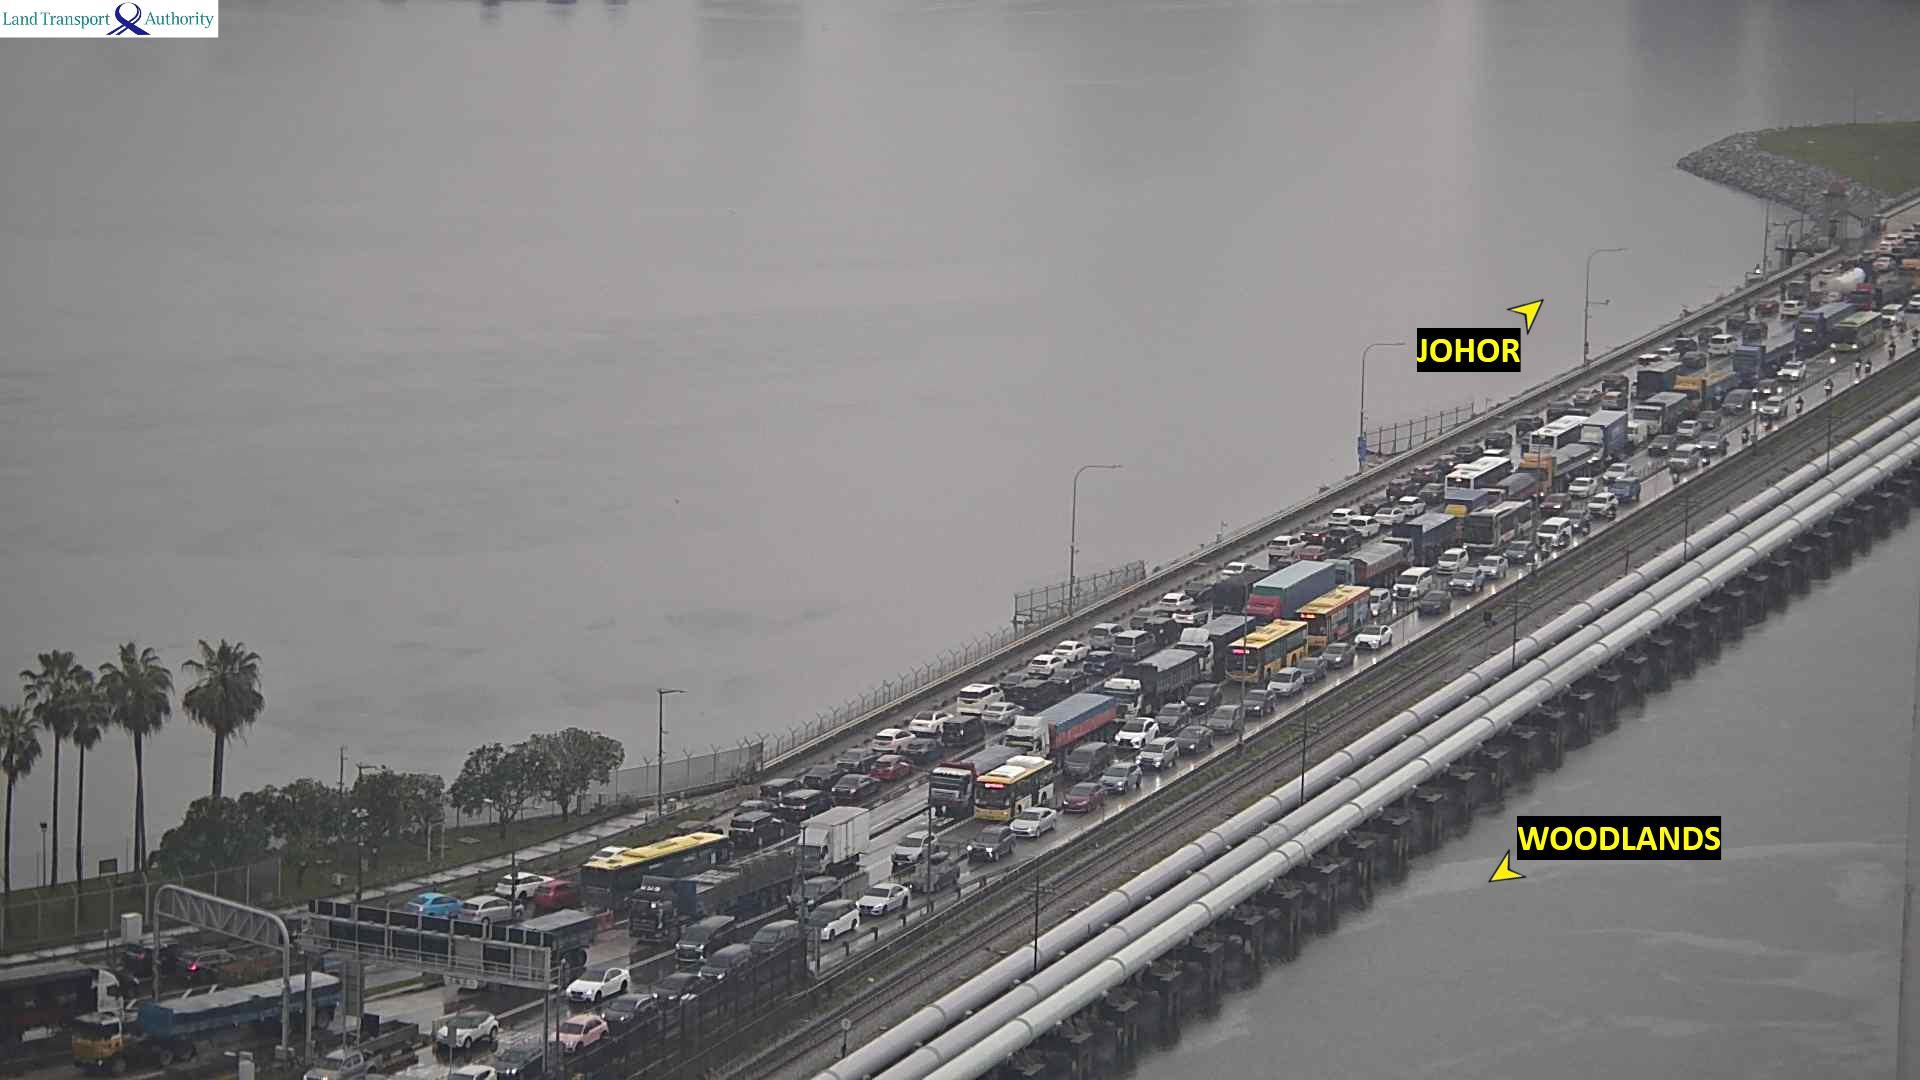vehicle-causeway-johor: (128, 946, 238, 969), (1529, 416, 1590, 443), (731, 814, 782, 845), (1579, 414, 1626, 444), (1637, 363, 1681, 393), (1112, 631, 1160, 658), (495, 873, 553, 895), (458, 898, 521, 918), (942, 717, 984, 744), (782, 792, 827, 816), (959, 684, 997, 712), (533, 882, 580, 904), (407, 894, 458, 914), (835, 776, 881, 797), (873, 755, 912, 778), (982, 704, 1026, 724), (837, 748, 876, 770), (1144, 618, 1180, 641), (1008, 684, 1048, 704), (871, 728, 913, 746), (1056, 639, 1089, 661), (1269, 536, 1305, 556), (911, 712, 948, 731), (804, 766, 839, 786), (1089, 624, 1120, 646), (1050, 669, 1087, 687), (1029, 654, 1064, 673), (1325, 528, 1361, 546), (762, 779, 800, 796), (1350, 516, 1381, 536), (1175, 606, 1208, 624), (907, 740, 939, 758), (1220, 563, 1255, 579), (1709, 334, 1735, 355), (1601, 392, 1629, 409), (1132, 607, 1157, 626), (1398, 497, 1425, 514), (1412, 467, 1440, 483), (1160, 592, 1191, 606), (1376, 509, 1403, 525), (1572, 388, 1599, 404), (1421, 482, 1444, 500), (1330, 507, 1354, 524), (1741, 320, 1771, 333), (1001, 674, 1027, 689), (1683, 351, 1709, 366), (1782, 281, 1807, 296), (1386, 482, 1414, 495), (1668, 340, 1698, 352), (1756, 300, 1778, 316), (1516, 417, 1543, 430), (1437, 455, 1462, 469), (1547, 402, 1571, 416), (1459, 446, 1481, 461), (1700, 328, 1722, 343), (1486, 432, 1511, 445), (1302, 546, 1325, 560), (1874, 257, 1894, 269), (1728, 317, 1745, 331), (1783, 302, 1799, 315)
vehicle-causeway-singapore: (71, 973, 343, 1059), (630, 853, 794, 940), (577, 837, 728, 897), (479, 913, 594, 984), (1004, 699, 1122, 760), (0, 968, 104, 1037), (1241, 564, 1351, 627), (1107, 649, 1213, 710), (932, 748, 1020, 813), (795, 809, 868, 869), (1375, 518, 1460, 565), (1230, 623, 1312, 671), (984, 759, 1063, 808), (1338, 542, 1415, 588), (1795, 307, 1883, 347), (1529, 444, 1609, 481), (1463, 502, 1538, 541), (1732, 339, 1803, 380), (304, 1051, 381, 1080), (549, 1014, 605, 1052), (436, 1012, 495, 1048), (681, 917, 745, 950), (1636, 396, 1700, 428), (1056, 744, 1114, 779), (798, 903, 859, 936), (561, 975, 627, 1005), (704, 944, 754, 982), (603, 996, 668, 1024), (787, 877, 842, 910), (904, 864, 963, 892), (854, 887, 913, 913), (496, 1047, 541, 1080), (756, 921, 798, 955), (894, 840, 951, 865), (1009, 811, 1059, 839), (1118, 721, 1168, 747), (1055, 784, 1103, 811), (1136, 742, 1179, 771), (1539, 517, 1572, 548), (1104, 764, 1141, 791), (1668, 444, 1701, 471), (1177, 725, 1214, 749), (1270, 668, 1304, 694), (968, 839, 1011, 859), (1388, 579, 1427, 600), (1442, 576, 1489, 593), (1206, 714, 1248, 732), (1436, 552, 1475, 571), (1420, 591, 1452, 614), (1244, 689, 1276, 712), (451, 1063, 494, 1080), (1352, 634, 1394, 651), (1322, 644, 1354, 666), (1583, 497, 1622, 514), (1610, 478, 1641, 499), (1470, 563, 1510, 579), (1499, 547, 1537, 563), (1724, 390, 1751, 412), (1649, 435, 1679, 454), (1699, 433, 1726, 453), (1564, 509, 1592, 528), (1299, 659, 1327, 678), (1761, 397, 1786, 418), (1541, 494, 1569, 512), (1604, 464, 1633, 481), (1781, 364, 1811, 380), (1752, 379, 1778, 397), (1882, 304, 1904, 323), (1911, 327, 1919, 345), (1740, 426, 1749, 442), (1888, 341, 1897, 356), (1796, 395, 1803, 412), (1825, 379, 1833, 393), (1865, 356, 1872, 371), (1855, 356, 1861, 373)
